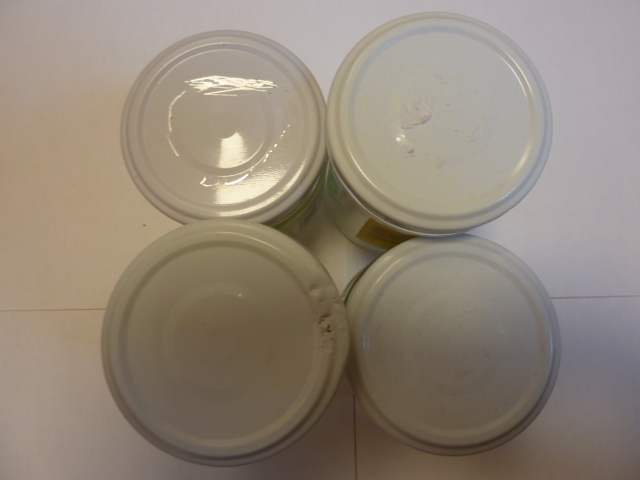damaged: (93, 225, 348, 458)
